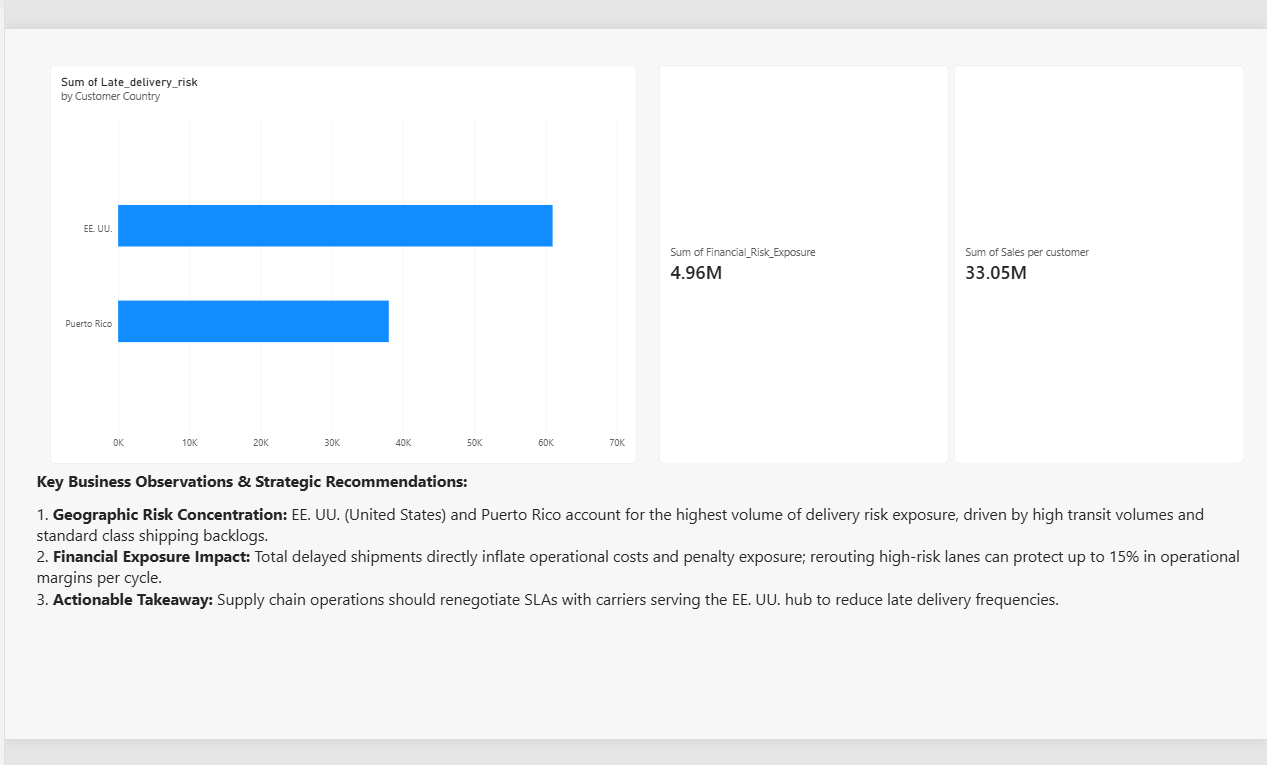

What the dashboard file says about the page in this screenshot:
{"tool":"powerbi","page":{"name":"Page 1","canvas":[1920,1080],"ordinal":0},"visuals":[{"type":"barChart","fields":{"Category":["supply_chain_bi_ready.Customer Country"],"Y":["Sum(supply_chain_bi_ready.Late_delivery_risk)"]},"box":[69.2,55.4,891.7,606.5],"z":0},{"type":"cardVisual","fields":{"Data":["Sum(supply_chain_bi_ready.Financial_Risk_Exposure)","Sum(supply_chain_bi_ready.Sales per customer)"]},"box":[994.2,55.4,891.7,606.5],"z":1000},{"type":"textbox","box":[47.1,670,1838.6,371.4],"z":2000}]}

Visuals, with their boxes on the page's 1920x1080 design canvas (x1, y1, x2, y2). These are canvas units, not pixel positions in the 1267x765 screenshot, which may show the page scaled, cropped or inside an application window:
barChart - supply_chain_bi_ready.Customer Country x Sum(supply_chain_bi_ready.Late_delivery_risk): <bbox>69, 55, 961, 662</bbox>
cardVisual - Sum(supply_chain_bi_ready.Financial_Risk_Exposure) x Sum(supply_chain_bi_ready.Sales per customer): <bbox>994, 55, 1886, 662</bbox>
textbox: <bbox>47, 670, 1886, 1041</bbox>
